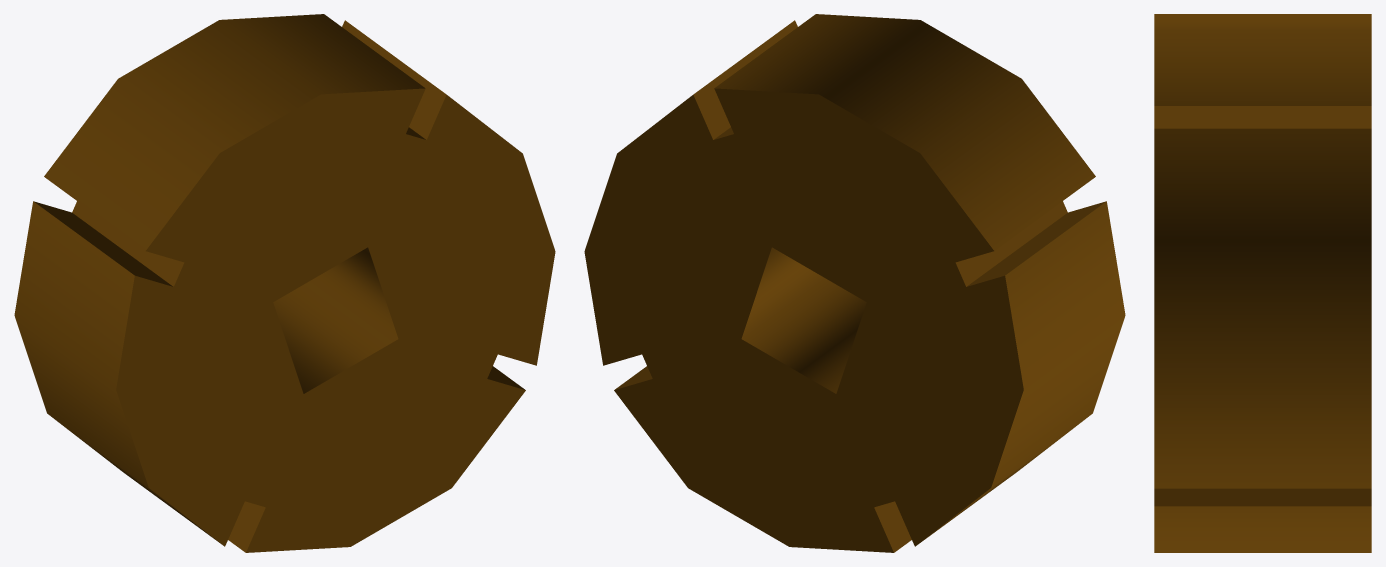
File: Rondelle volant_Quarts.obj
3 views of the same model, side by side, from view 1: azimuth 30°, elevation 25°; view 2: azimuth 150°, elevation 25°; view 3: azimuth 270°, elevation 25° (orthographic). The views are drawn at different scales.
Parts seen in each view (by area): view 1: Face_4, Face_6, Face_3, Face_7, Face_17, Face_10, Face_9, Face_12; view 2: Face_5, Face_6, Face_3, Face_7, Face_17, Face_10, Face_9, Face_12; view 3: Face_1, Face_6, Face_2, Face_18, Face_14.
Part boxes in pixels (x1,y1,x2,y2): Face_4: [116, 88, 555, 552]; Face_6: [44, 14, 424, 250]; Face_3: [14, 201, 221, 544]; Face_7: [273, 247, 398, 393]; Face_17: [342, 20, 446, 139]; Face_10: [72, 201, 184, 286]; Face_9: [34, 201, 173, 286]; Face_12: [228, 501, 265, 552]; Face_5: [584, 88, 1023, 552]; Face_6: [715, 14, 1095, 250]; Face_3: [918, 201, 1125, 544]; Face_7: [741, 247, 866, 393]; Face_17: [693, 20, 797, 139]; Face_10: [955, 201, 1067, 286]; Face_9: [966, 201, 1105, 286]; Face_12: [874, 501, 911, 552]; Face_1: [1154, 128, 1371, 488]; Face_6: [1154, 14, 1371, 105]; Face_2: [1154, 506, 1371, 552]; Face_18: [1154, 106, 1371, 128]; Face_14: [1154, 488, 1371, 506].
Bounding box in the file's own units: 0.00748 × 0.00748 × 0.003.
